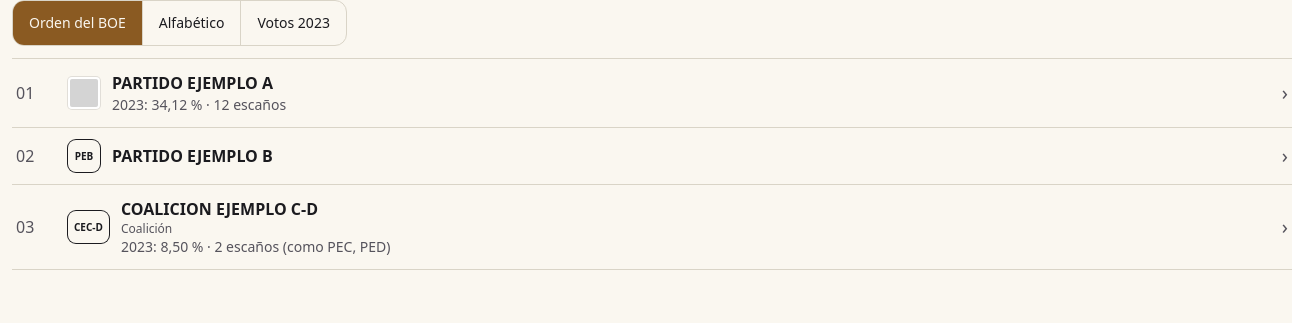
Test case: CandidacyList › shows the votes2023 summary only in that ordering
Expected: the text "Resumen 2023" is not shown
Click the radio button labelled "Votos 2023".
click(294, 22)  # box [257,13,330,32]
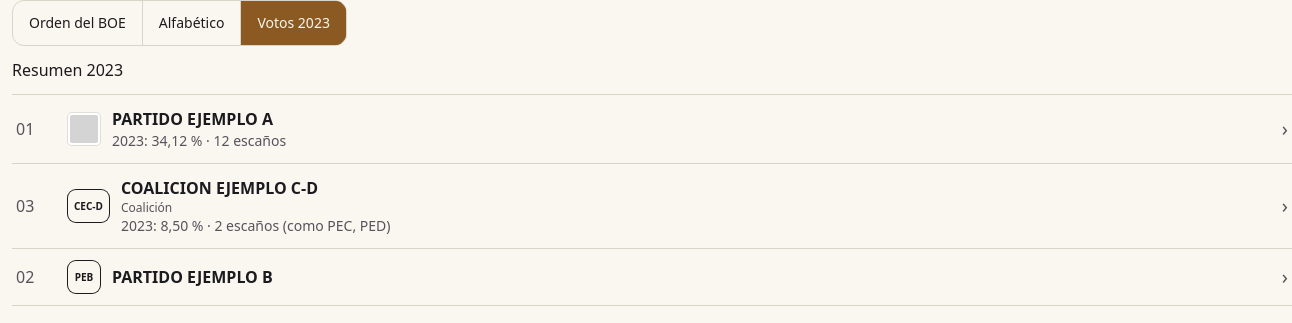
Click the radio button labelled "Orden del BOE".
click(78, 23)  # box [13,1,143,45]
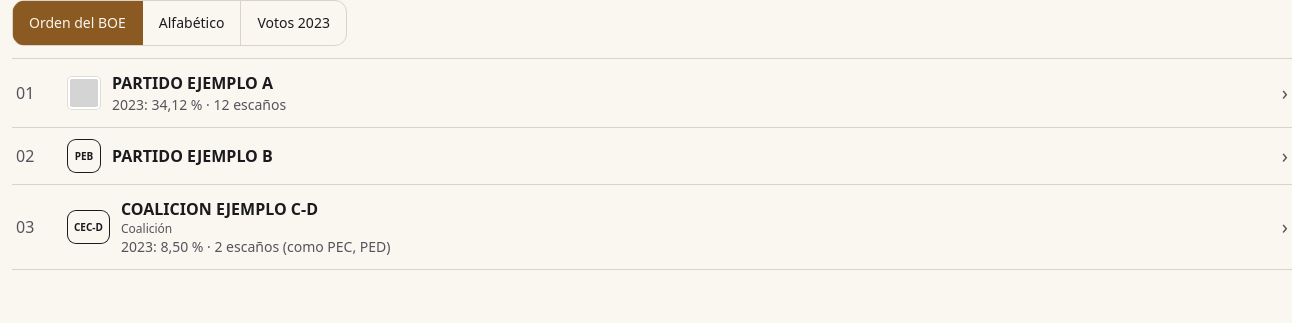
Expected: the text "Resumen 2023" is gone
